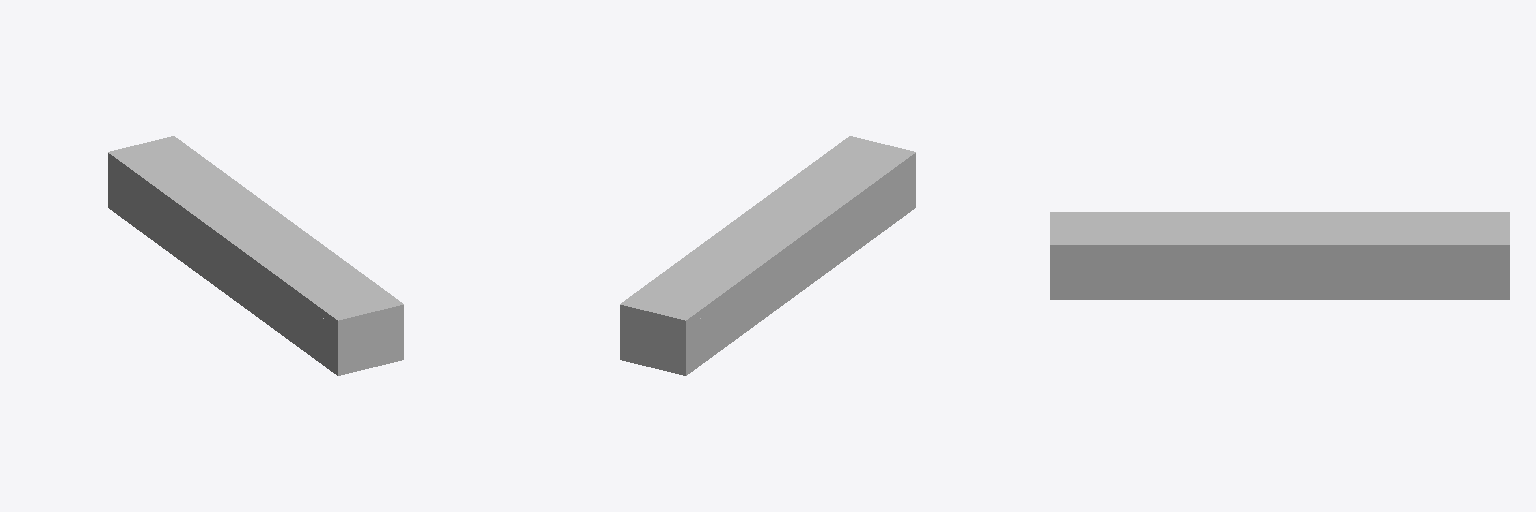
Rendered from p3-rotated.obj.
The picture shows the model from 3 angles: view 1: azimuth 30°, elevation 25°; view 2: azimuth 150°, elevation 25°; view 3: azimuth 270°, elevation 25°; orthographic projection.
Visible parts, largest first — view 1: p33; view 2: p33; view 3: p33.
Part boxes in pixels (x1,y1,x2,y2): p33: (108,136,403,375); p33: (620,136,915,375); p33: (1050,212,1509,299).
Size of the model in its own units: 2.01 by 1.6 by 12.02.